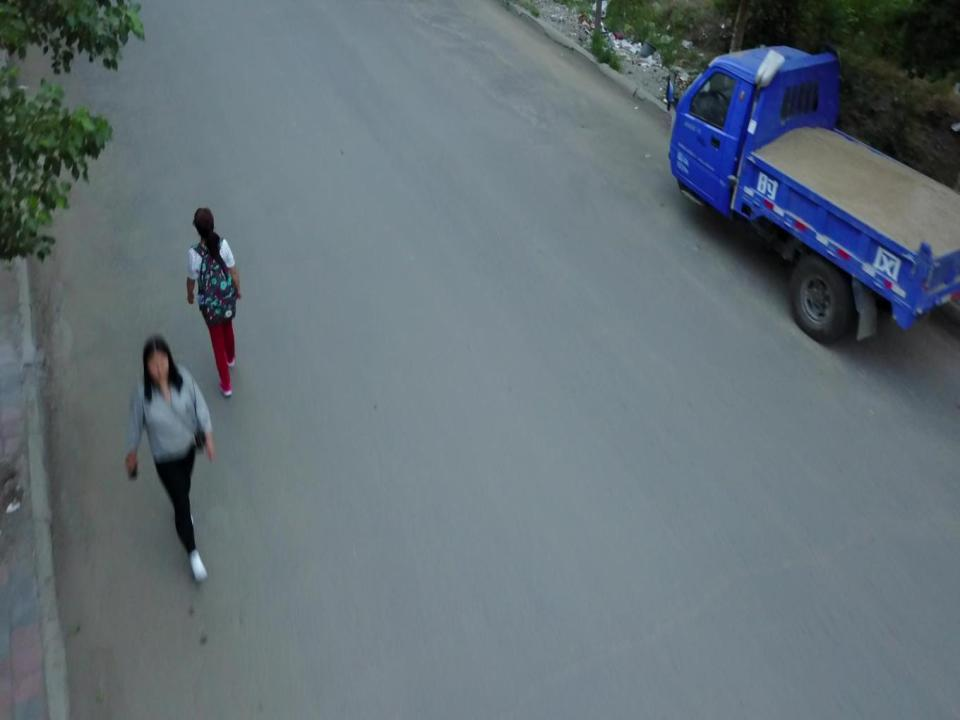truck: (665, 47, 960, 351)
